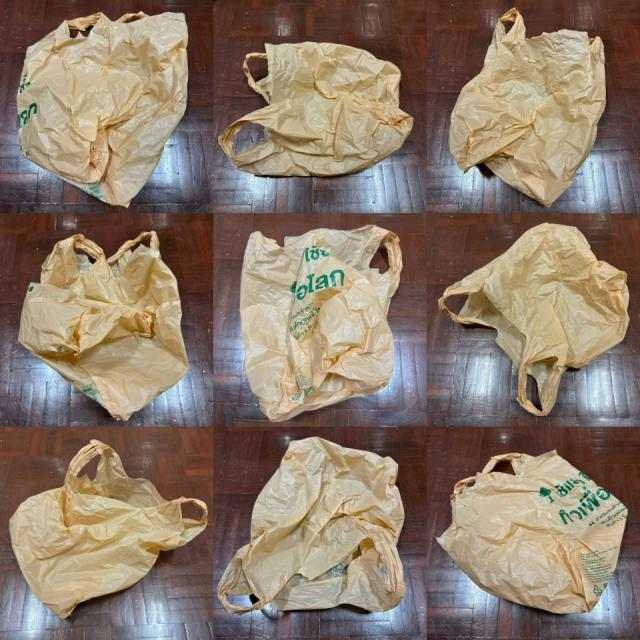Single-layer Plastic: (439, 222, 629, 415), (10, 440, 208, 618), (18, 11, 188, 207), (218, 438, 406, 614), (19, 231, 189, 419), (240, 225, 402, 421), (438, 450, 628, 614), (449, 9, 606, 206), (219, 41, 412, 176)
